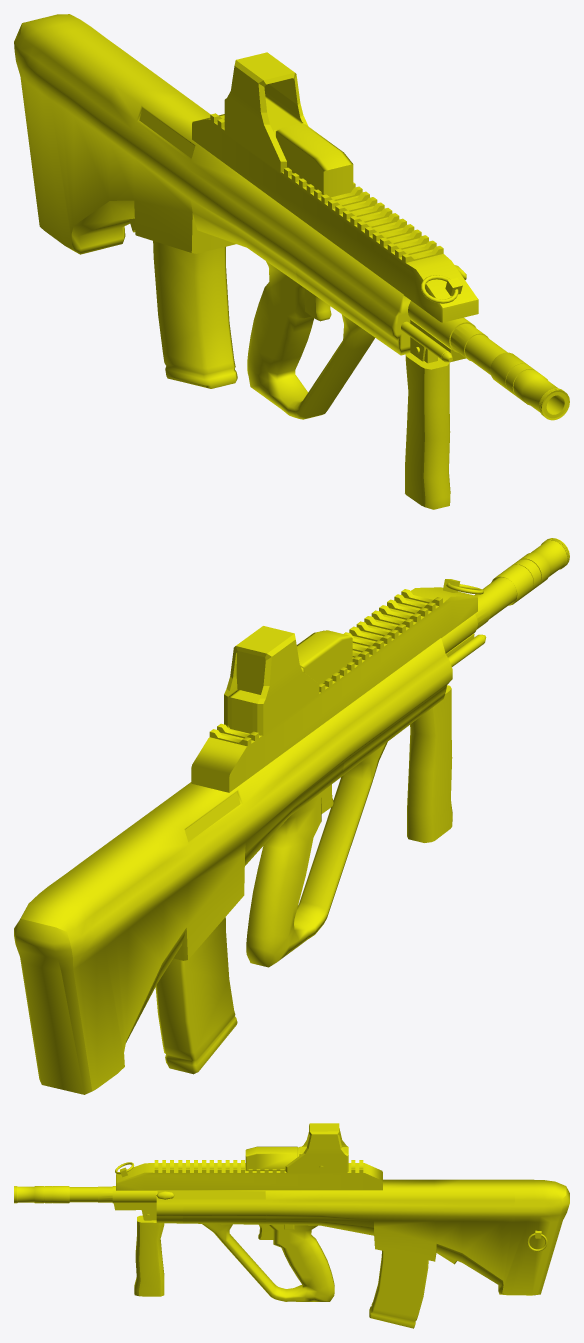
Rendered from assault_rifle.glb.
3 renders of one model, top to bottom at view 1: azimuth 30°, elevation 25°; view 2: azimuth 150°, elevation 25°; view 3: azimuth 270°, elevation 25°, orthographic. The views are drawn at different scales.
Visible parts, largest first — view 1: body, clip, front_grip; view 2: body, clip, front_grip, scope_lense; view 3: body, clip, front_grip.
Part boxes in pixels (x1=…): body: x1=14, y1=14, x2=569, y2=420; clip: x1=153, y1=241, x2=237, y2=388; front_grip: x1=405, y1=348, x2=450, y2=509; body: x1=14, y1=538, x2=569, y2=1094; clip: x1=155, y1=917, x2=237, y2=1074; front_grip: x1=407, y1=685, x2=452, y2=842; scope_lense: x1=236, y1=651, x2=265, y2=694; body: x1=14, y1=1123, x2=569, y2=1301; clip: x1=369, y1=1250, x2=428, y2=1328; front_grip: x1=134, y1=1215, x2=164, y2=1296.
Bounding box in the file's own units: 0.1111 × 0.4851 × 1.23.
